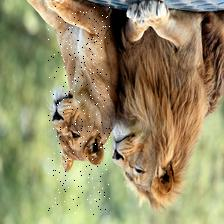Lion: (109, 6, 217, 210), (47, 4, 109, 214)
